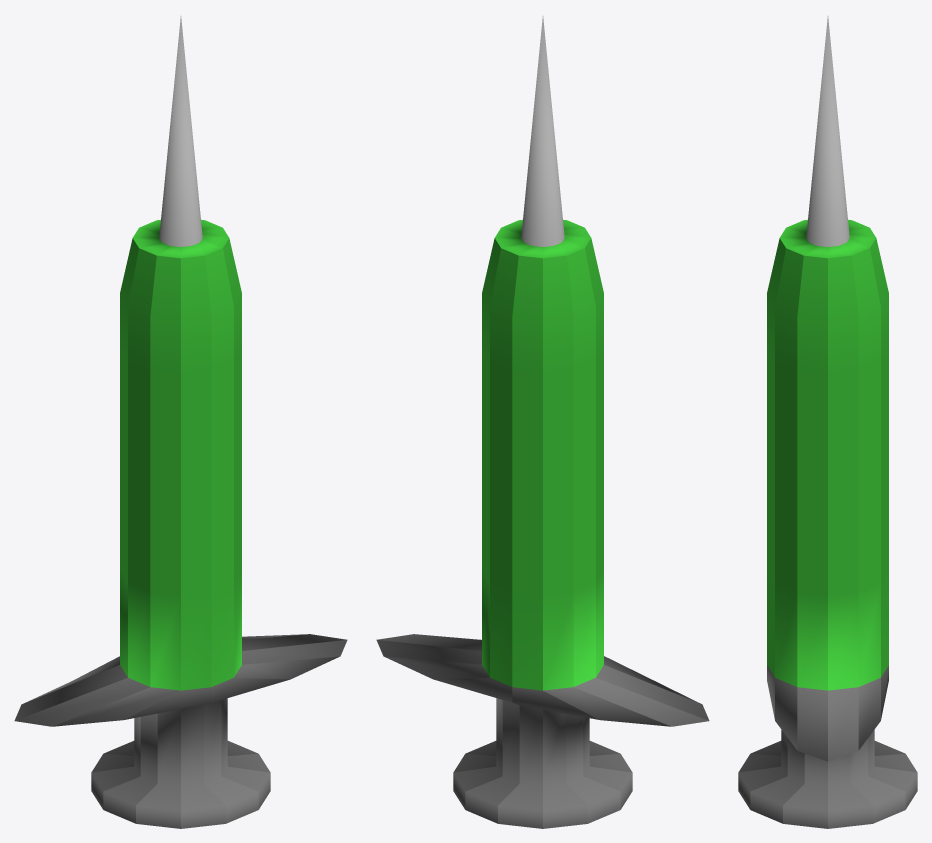
The model's file is needle.fbx.
3 renders of one model, left to right at view 1: azimuth 30°, elevation 25°; view 2: azimuth 150°, elevation 25°; view 3: azimuth 270°, elevation 25°, orthographic.
Parts seen in each view (by area): view 1: pCylinder1; view 2: pCylinder1; view 3: pCylinder1.
Boxes of the visible parts, x1,y1,x2,y2 form: pCylinder1: (14,16,347,828); pCylinder1: (376,16,709,828); pCylinder1: (738,16,917,828).
Size of the model in its own units: 1.26 by 2.82 by 0.5878.
